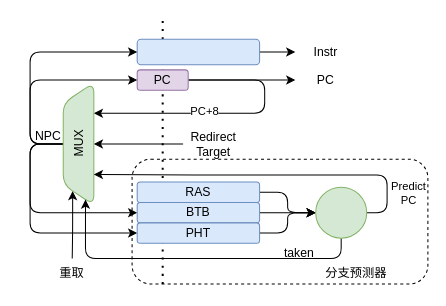
This 446x306 diagram has some shape labels left out. Here are the shapes that lost their labels. From the top down, the box of each, then its label:
(136, 38, 260, 65): ICache
(315, 186, 367, 238): Predict Logic
